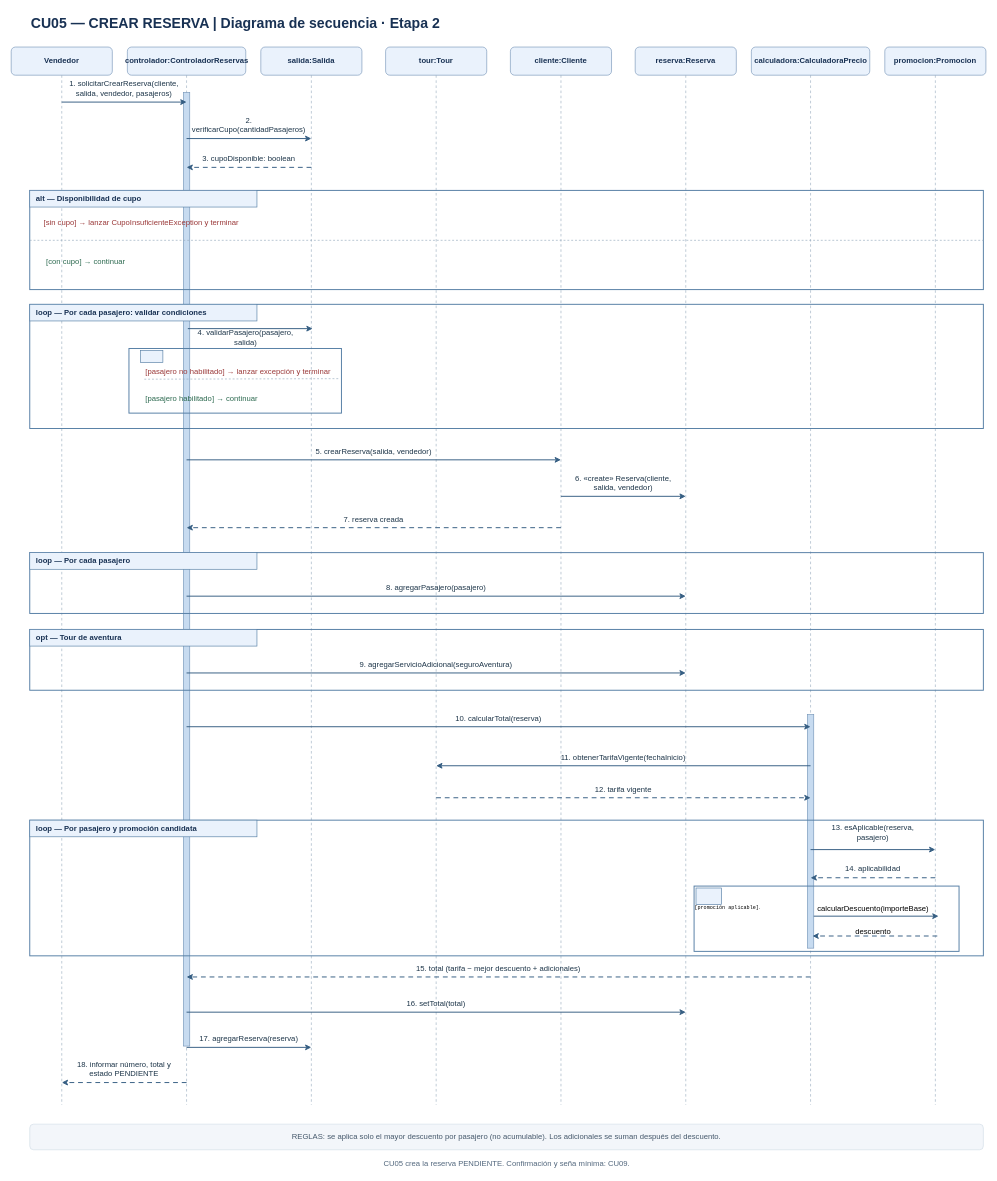
Some shapes in this 997 by 1181 pixel diagram are drawn without their labels. Here are the shapes that lost their labels. From the top down, the centre of each, then its label:
pixel 151 356: alt
pixel 708 896: Opt
